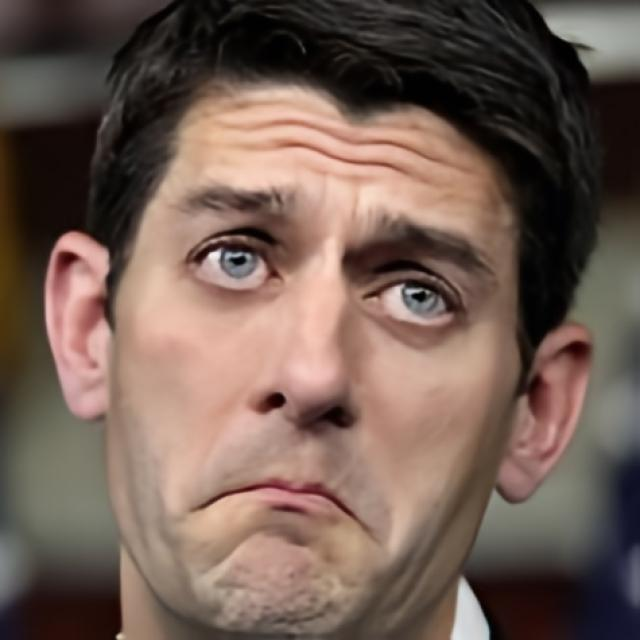sad: (114, 79, 522, 640)
